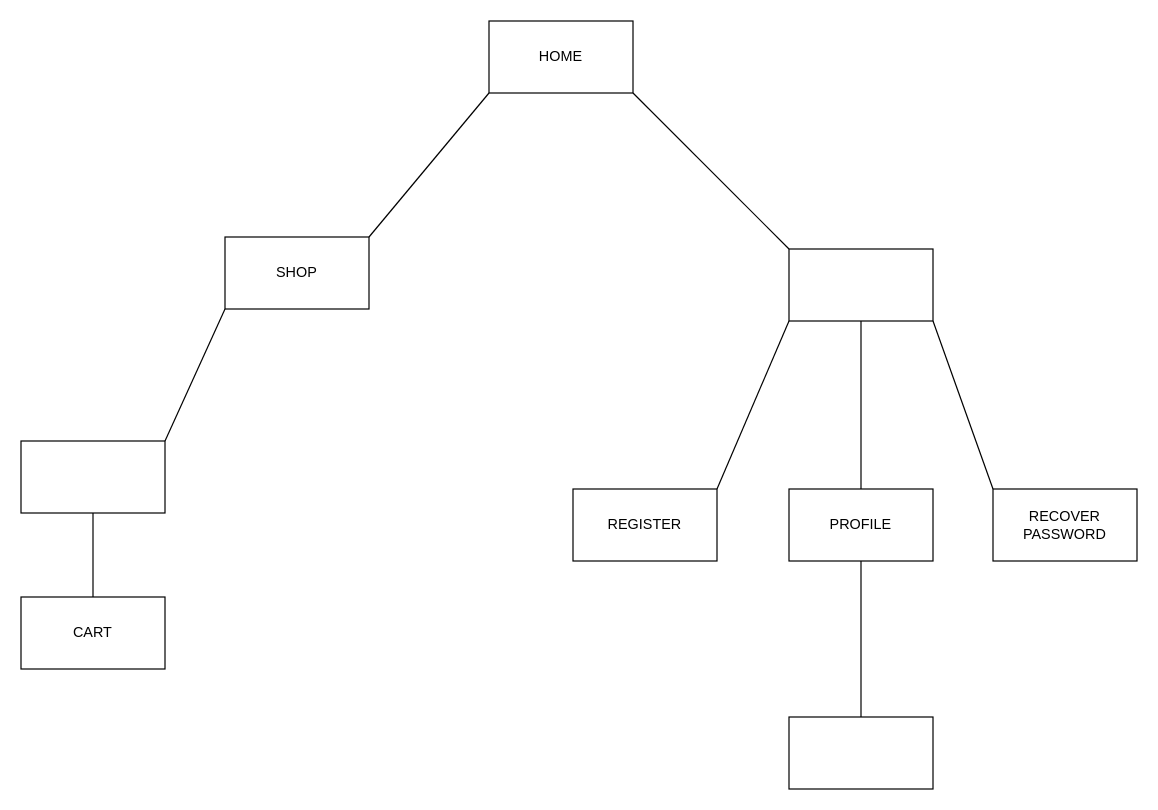
This 1158x810 diagram has some shape labels left out. The shapes that lost their labels are listed below. From the top down, each one's centre as x and y in pixels, then its label:
At point 860,284: "LOGIN".
At point 92,476: "DETAIL".
At point 860,752: "ADMIN".
